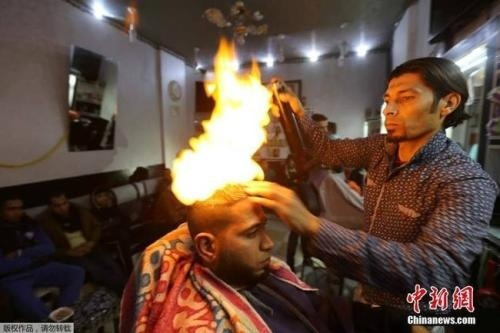fire: (167, 37, 290, 201)
